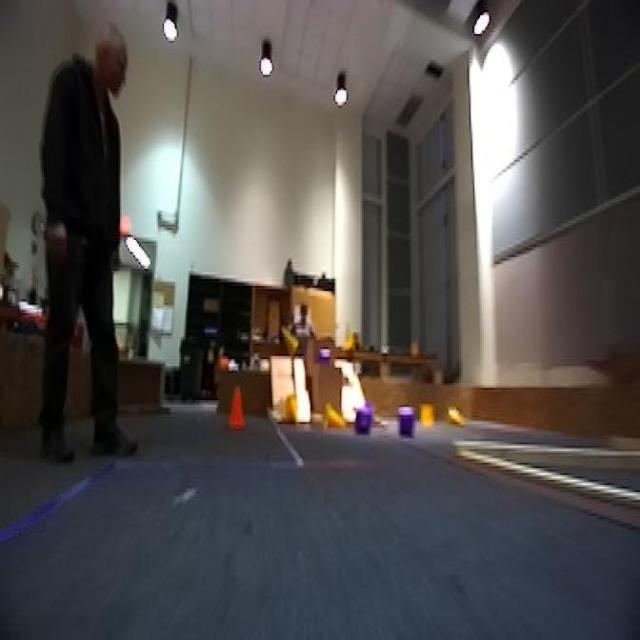frc_cone: (276, 318, 299, 363), (442, 405, 468, 429), (323, 405, 346, 431), (286, 392, 300, 427), (420, 397, 435, 427), (341, 322, 355, 354)
frc_cube: (356, 406, 372, 431), (318, 350, 332, 368), (400, 416, 410, 432)
